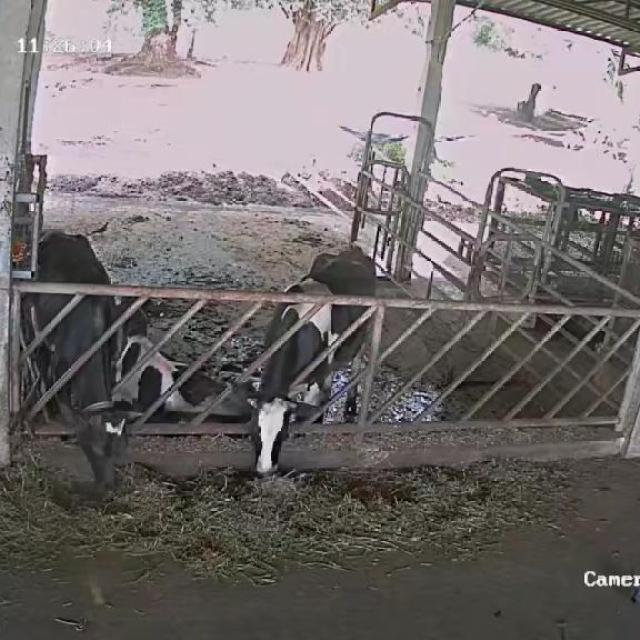feeding: (16, 210, 141, 506), (250, 243, 394, 476)
lying down: (111, 271, 259, 422)
